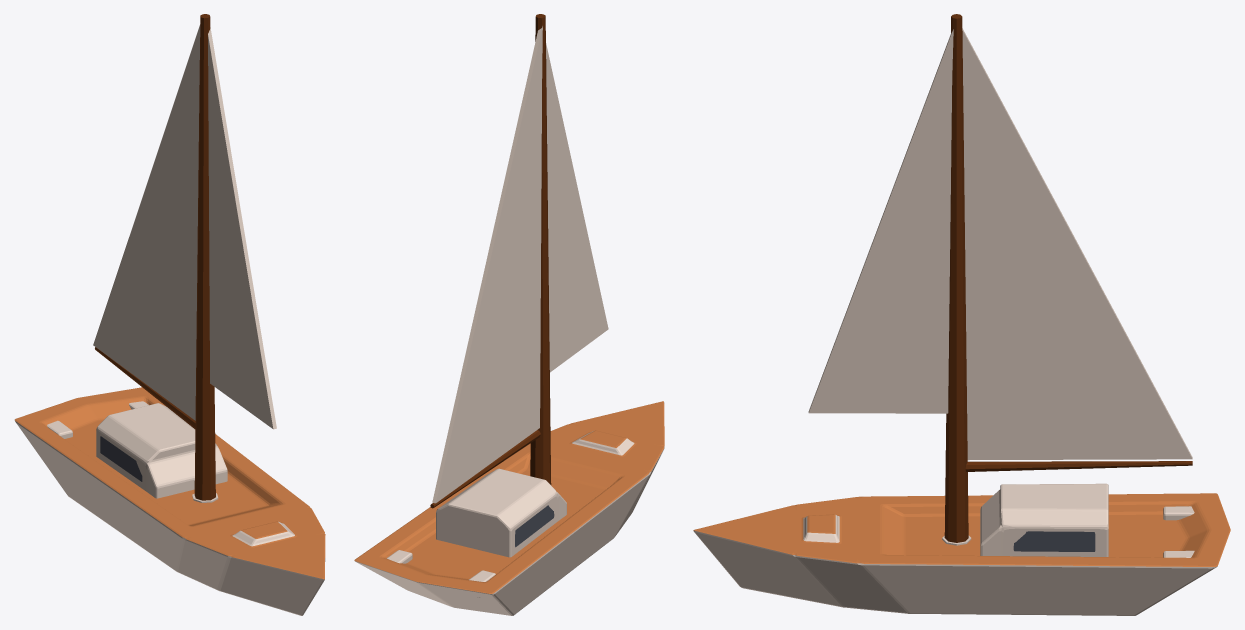
Rendered from yacht.fbx.
3 renders of one model, left to right at view 1: azimuth 30°, elevation 25°; view 2: azimuth 150°, elevation 25°; view 3: azimuth 270°, elevation 25°, orthographic. The views are drawn at different scales.
Parts seen in each view (by area): view 1: Cube.127, Cylinder.002, Cylinder.003, Cube.128, Cylinder.001; view 2: Cube.127, Cylinder.002, Cylinder.003, Cube.128, Cylinder.001, Cube.129; view 3: Cylinder.002, Cube.127, Cylinder.003, Cylinder.001, Cube.128.
Part boxes in pixels (x1,y1,x2,y2): Cube.127: [14, 387, 325, 615]; Cylinder.002: [93, 24, 200, 420]; Cylinder.003: [208, 27, 276, 429]; Cube.128: [96, 403, 227, 498]; Cylinder.001: [95, 14, 218, 502]; Cube.127: [354, 401, 664, 615]; Cylinder.002: [432, 26, 542, 503]; Cylinder.003: [546, 43, 608, 372]; Cube.128: [436, 468, 566, 557]; Cylinder.001: [430, 14, 551, 508]; Cube.129: [387, 550, 495, 597]; Cylinder.002: [962, 28, 1192, 460]; Cube.127: [693, 493, 1230, 615]; Cylinder.003: [808, 29, 953, 413]; Cylinder.001: [942, 14, 1192, 545]; Cube.128: [980, 483, 1108, 556].
Bounding box in the file's own units: 198 × 717 × 610.
